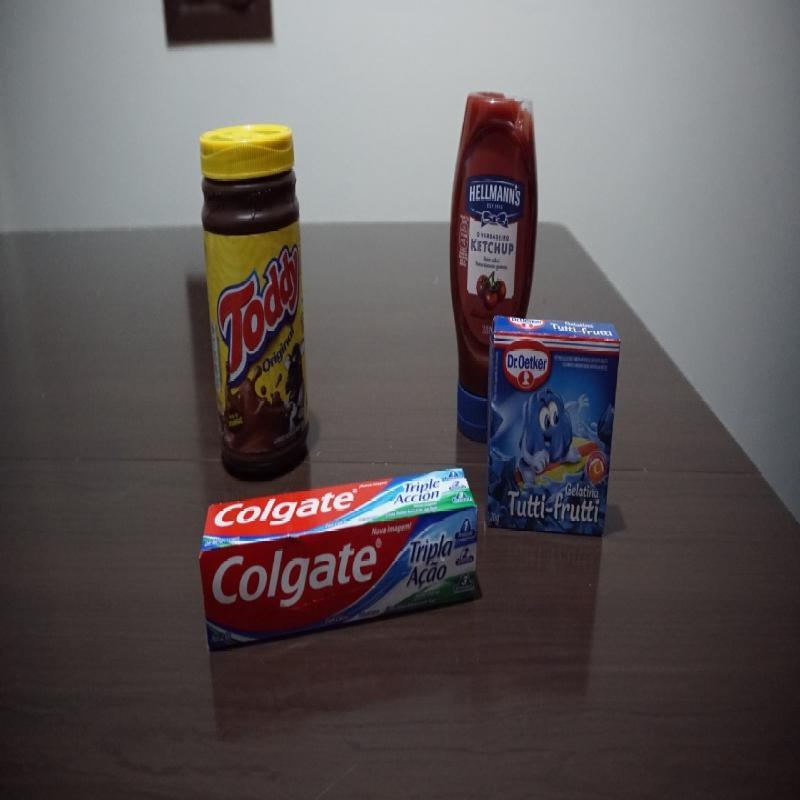Chocolate Powder: (198, 119, 311, 474)
Gelatine: (486, 314, 624, 544)
Ketchup: (448, 85, 540, 446)
Toothpaste: (199, 464, 481, 658)
